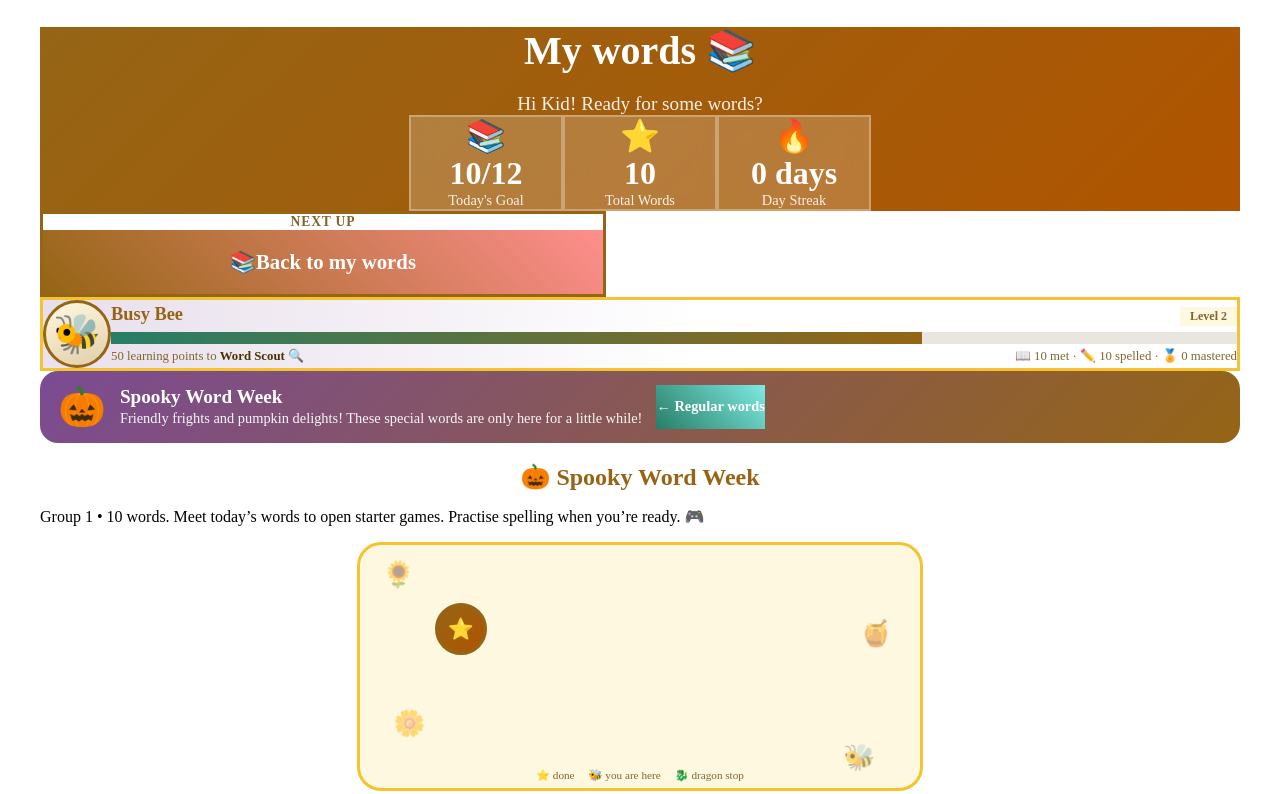
Scenario: a seasonal event’s "Next up" moves forward › once the event is learned and spelled, it heads back to the child’s own words
Click the button "📚 Back to my words": (323, 262) x1=43 y1=230 x2=603 y2=294
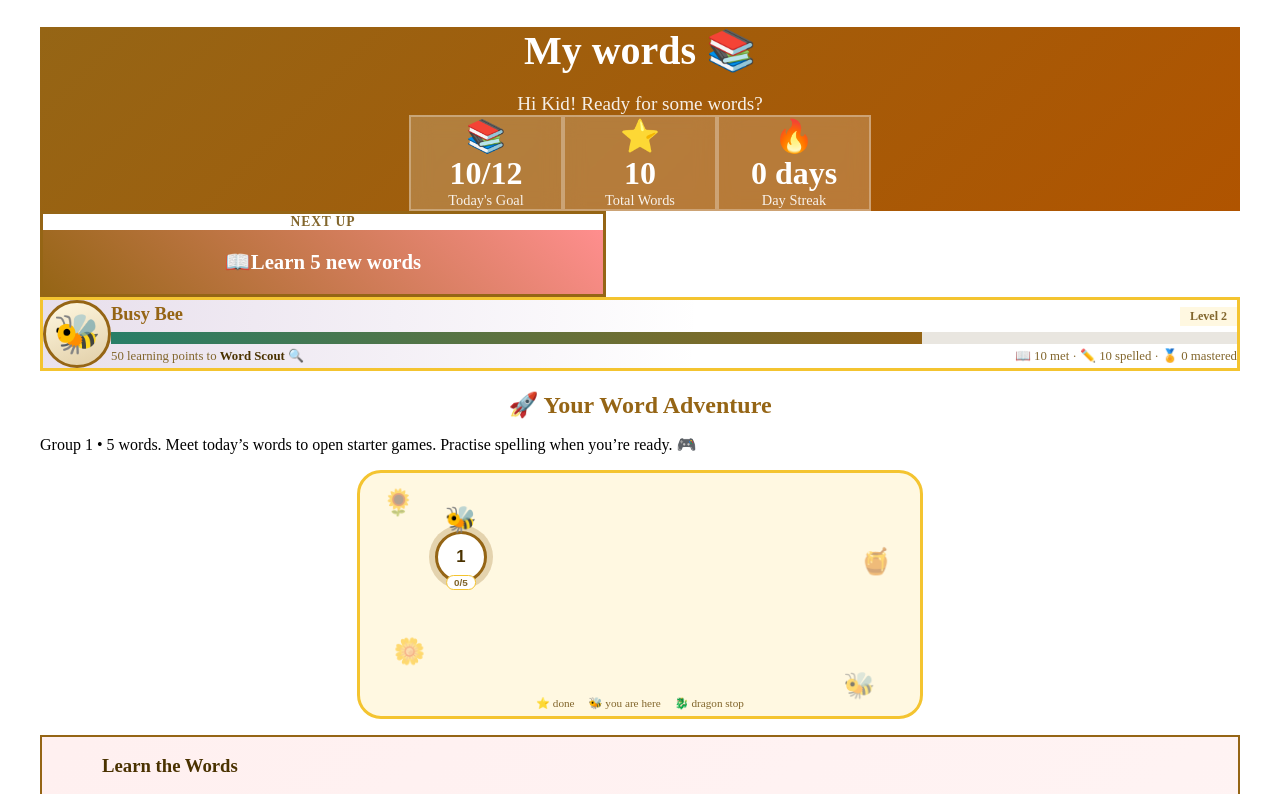
Now the button "📖 Learn 5 new words" is shown, box x1=43 y1=230 x2=603 y2=294
